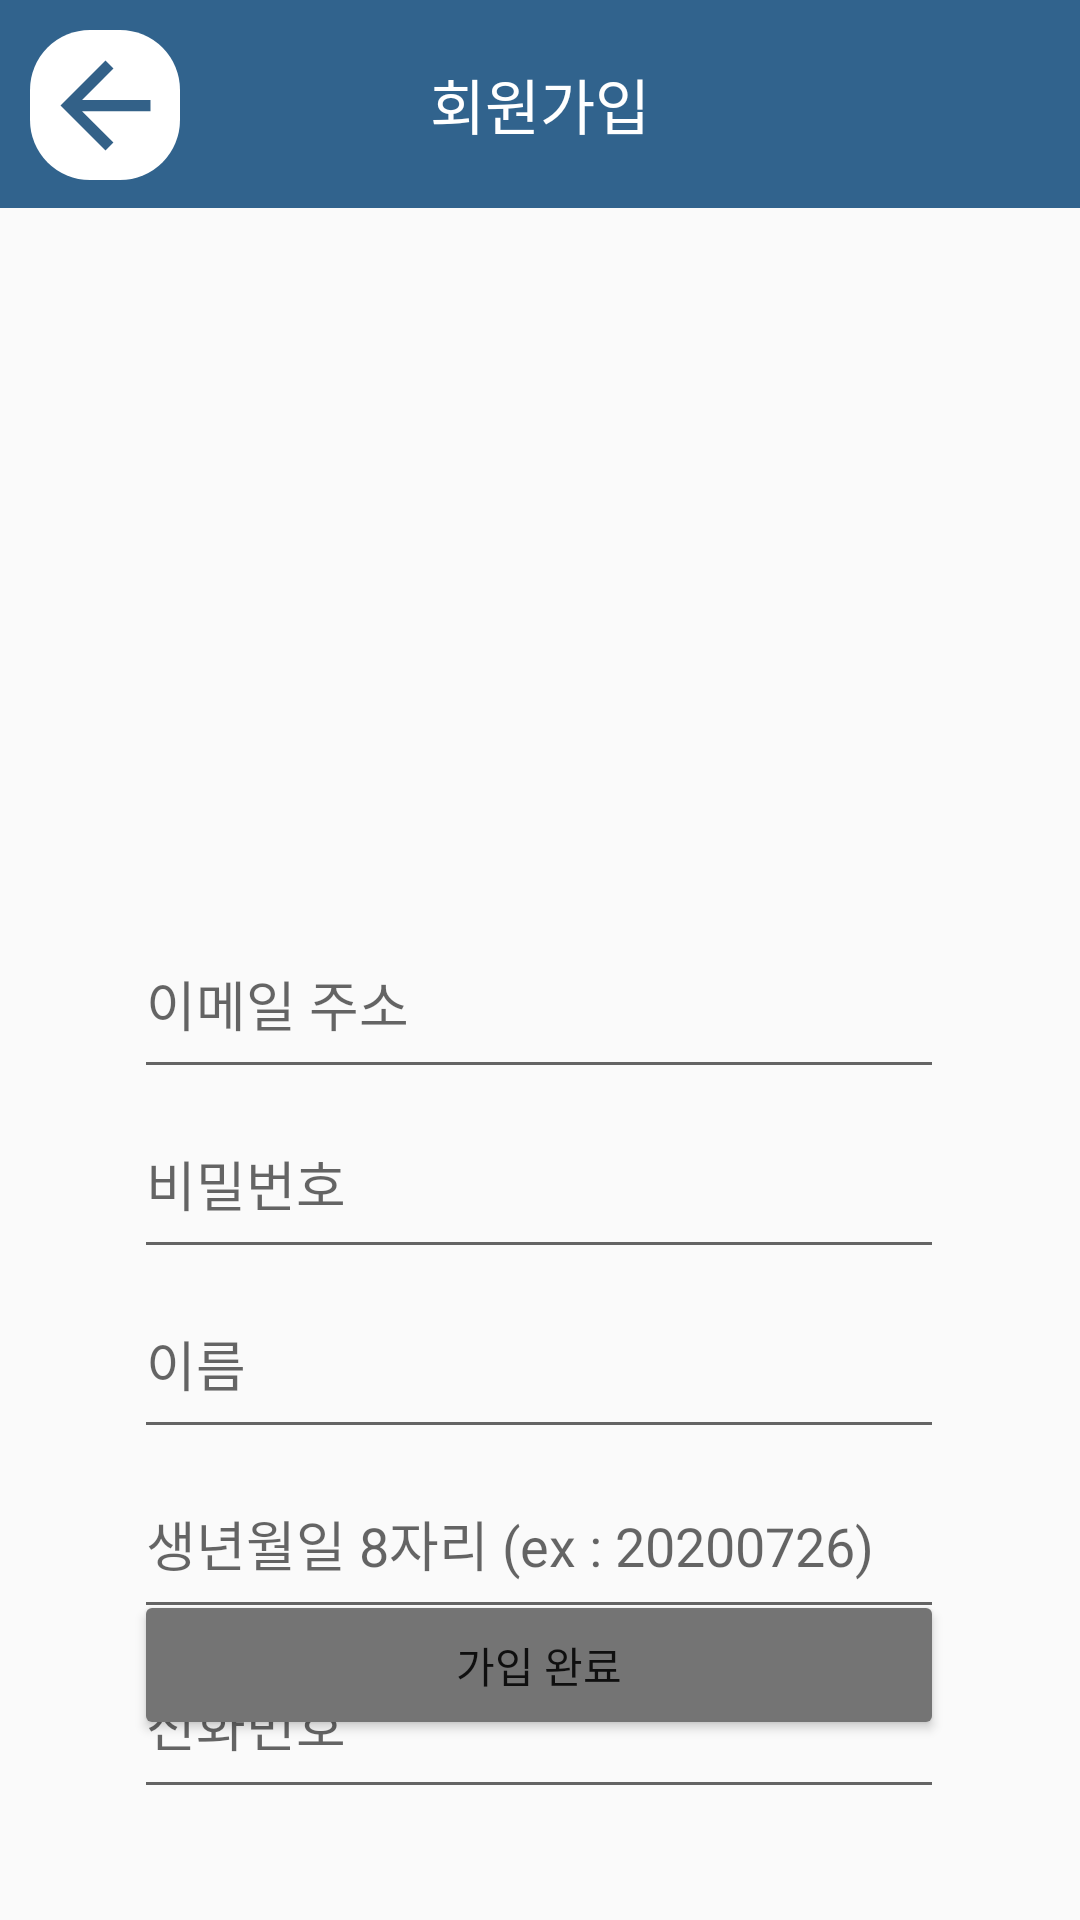

Point at icon controls on the screen. Image size 1080*1920, points as (x=x, y=y).
back: (x=105, y=105)
